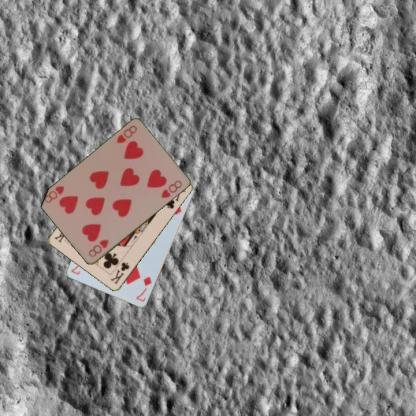7d: (134, 274, 153, 303)
8h: (114, 123, 138, 145), (86, 237, 110, 258)
Kc: (107, 260, 130, 286)
